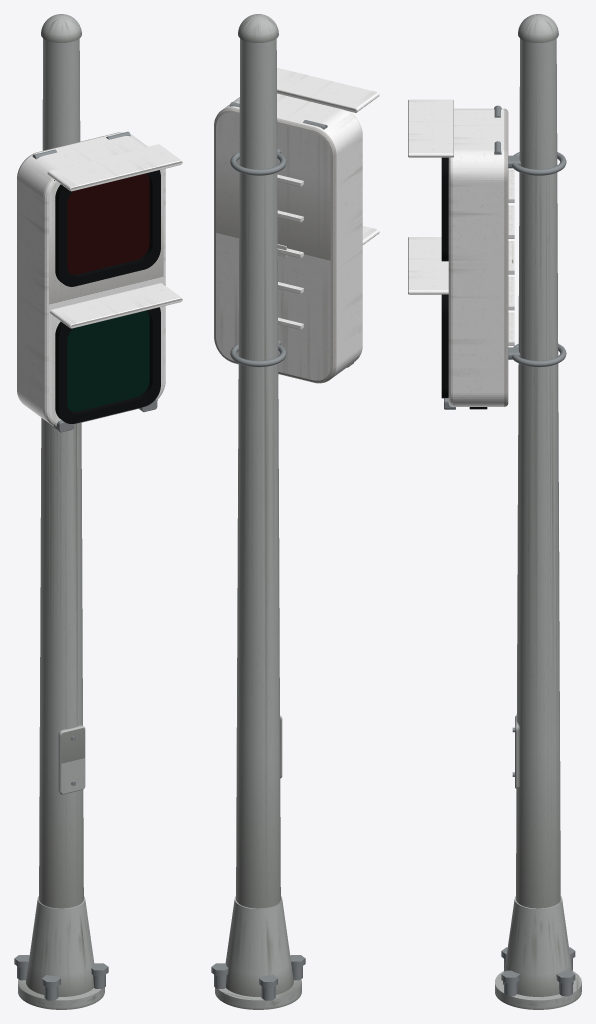
The picture shows the model from 3 angles, left to right: view 1: azimuth 30°, elevation 25°; view 2: azimuth 150°, elevation 25°; view 3: azimuth 270°, elevation 25°; orthographic projection.
Parts seen in each view (by area): view 1: jp-bike-ped, lamp_walk, lamp_red; view 2: jp-bike-ped; view 3: jp-bike-ped.
Part boxes in pixels (left/top/right/bottom): jp-bike-ped: left=14, top=14, right=182, bottom=1009; lamp_walk: left=67, top=310, right=149, bottom=411; lamp_red: left=67, top=173, right=149, bottom=274; jp-bike-ped: left=211, top=14, right=379, bottom=1009; jp-bike-ped: left=408, top=14, right=581, bottom=1009.
Bounding box in the file's own units: 0.4 × 3.06 × 0.4935.
Materials: 8 (2 with a texture image).
